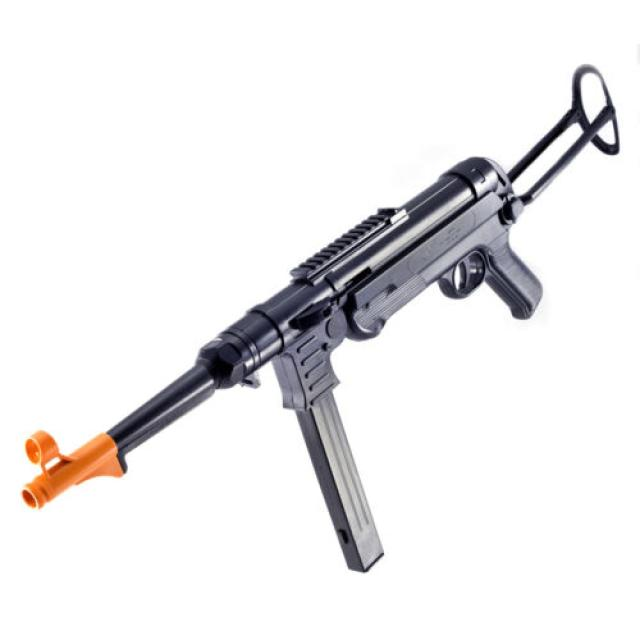SMG: (23, 64, 621, 576)
